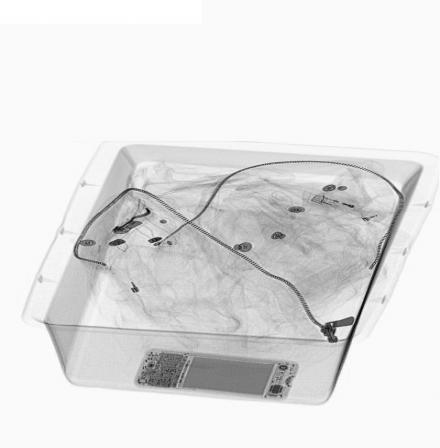Lighter: (306, 191, 389, 223)
